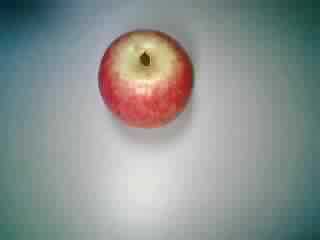apple: (94, 25, 198, 129)
